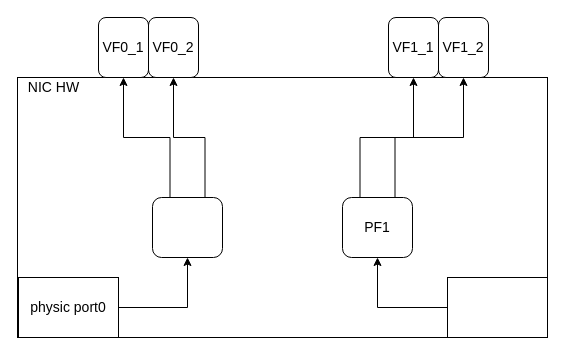
The diagram is 565 pixels wide and 355 high, and some of its shapes have lost their labels. Here are the shapes that lost their labels. From the top down, the centre of each, then its label:
At (187,227): "PF0".
At (497,307): "physic port1".
